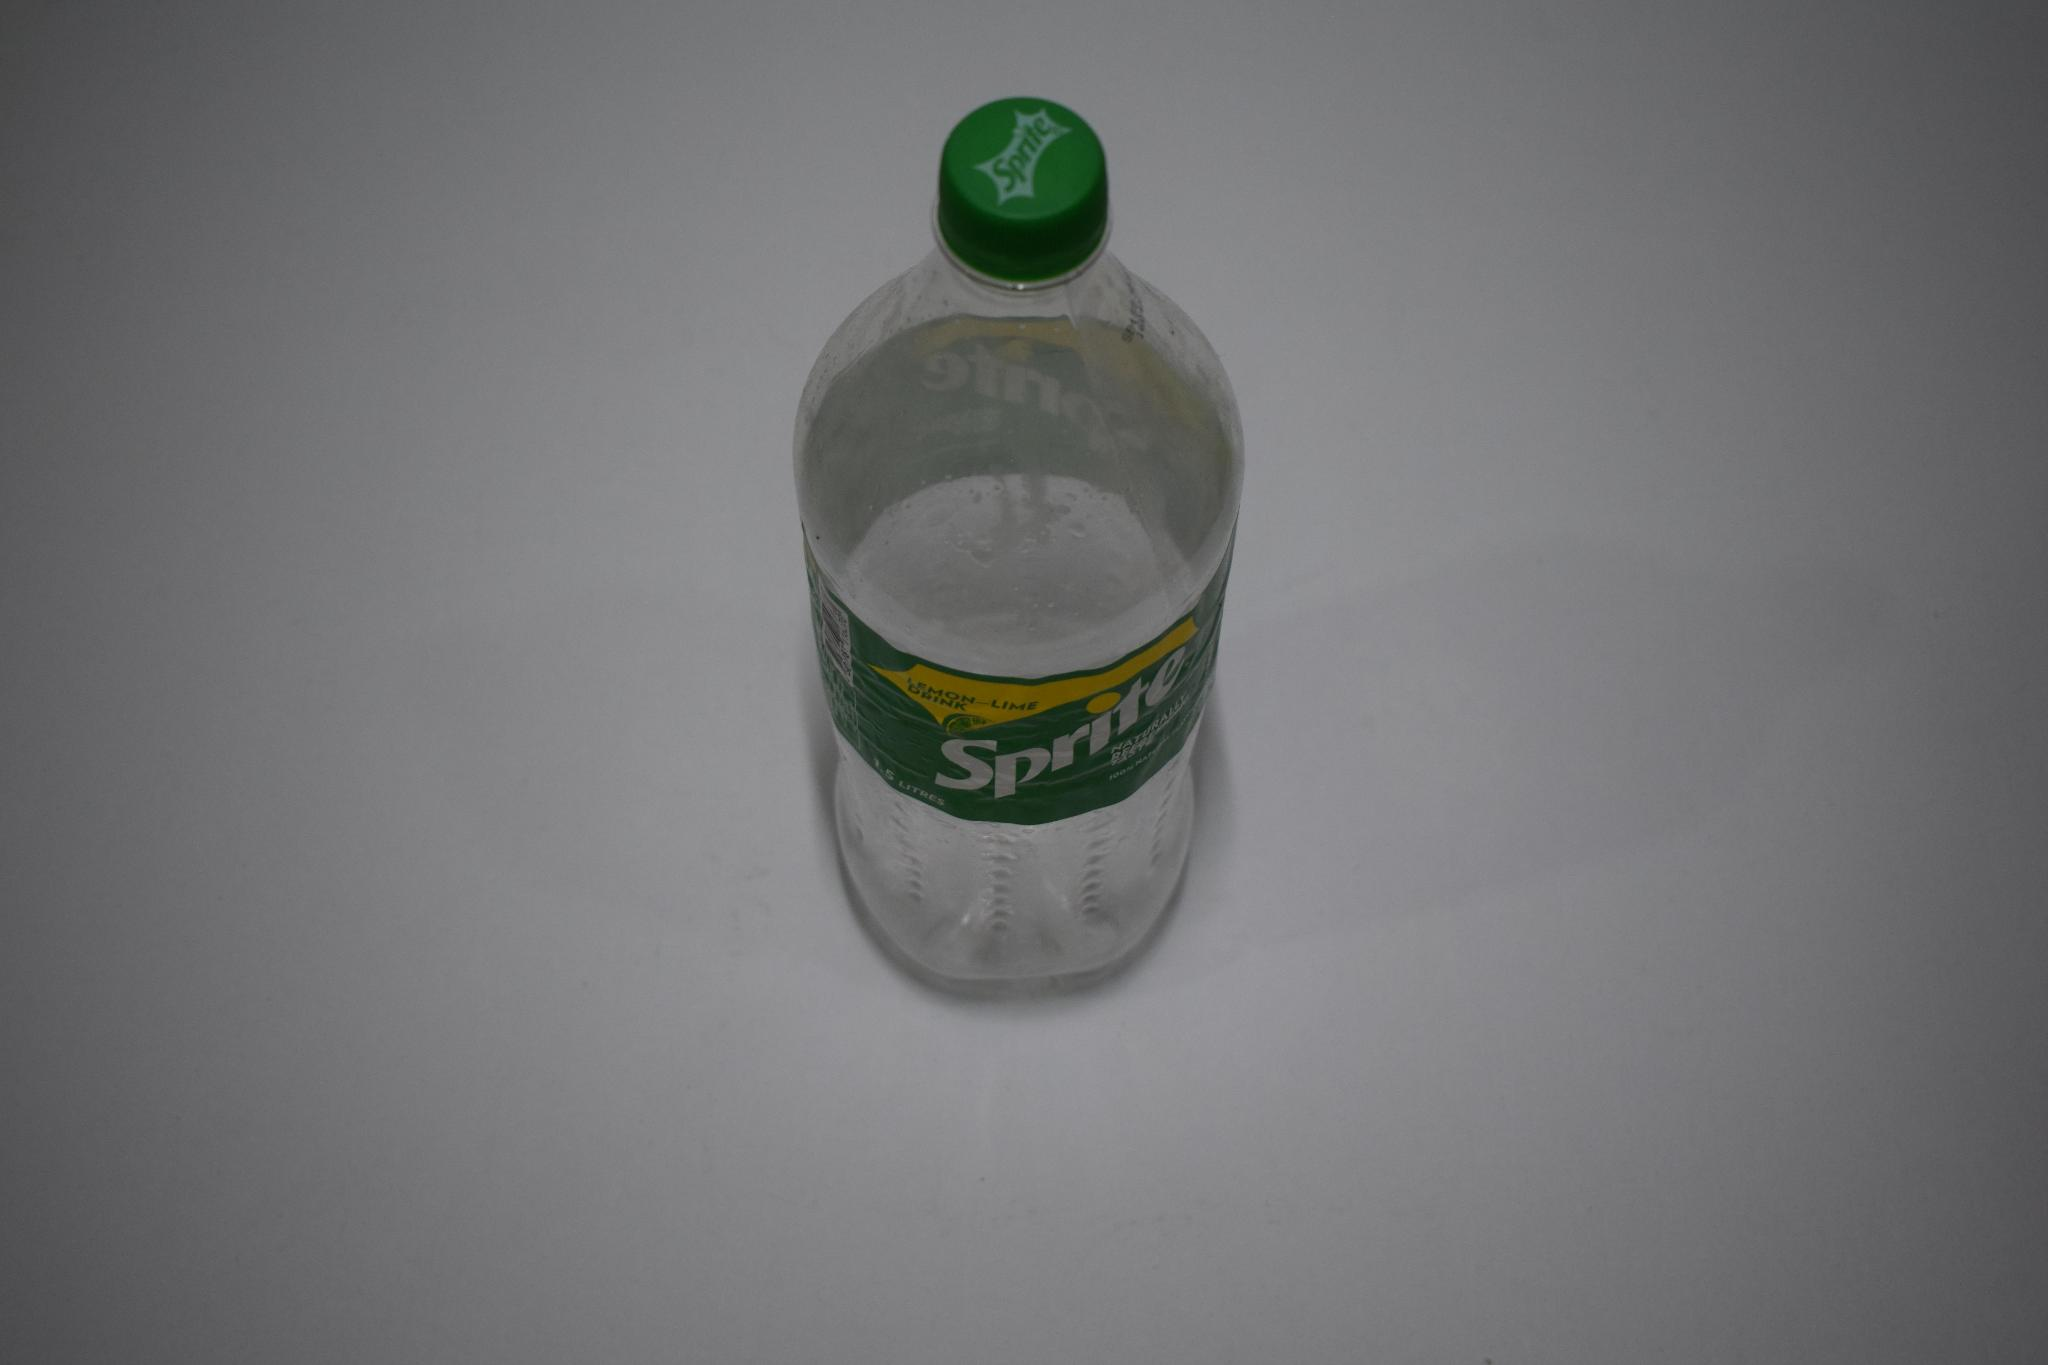bottle: (784, 85, 1252, 999)
